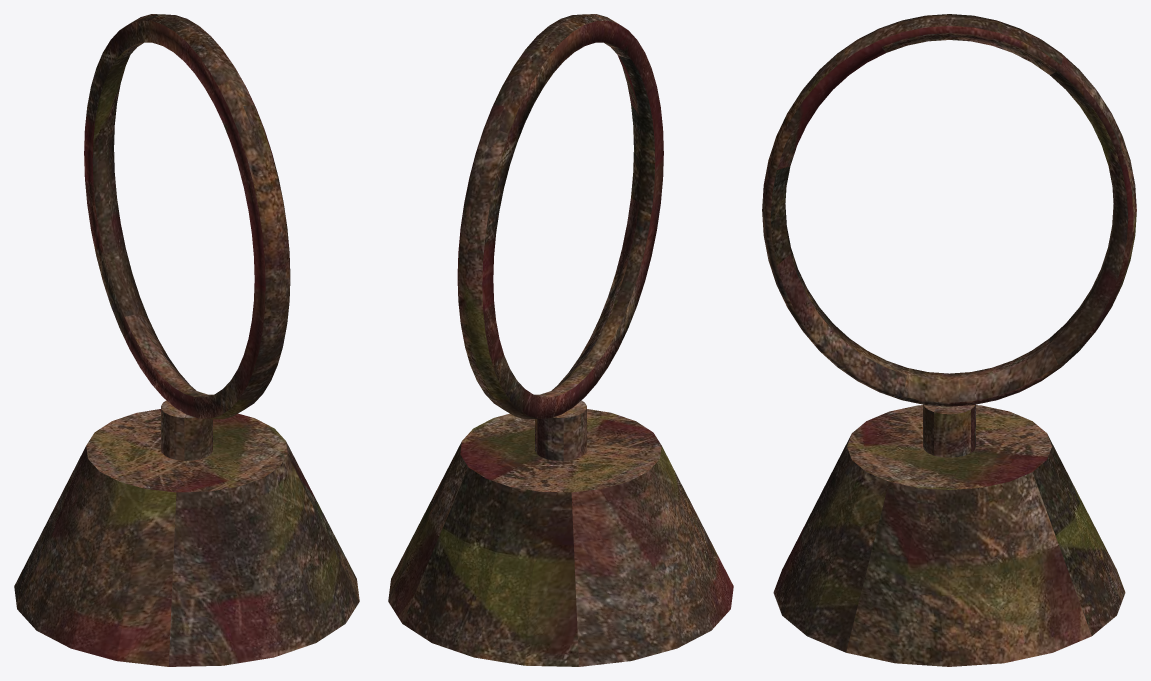
The model's file is aroCirco.fbx.
The picture shows the model from 3 angles, left to right: view 1: azimuth 30°, elevation 25°; view 2: azimuth 150°, elevation 25°; view 3: azimuth 270°, elevation 25°; orthographic projection.
Parts seen in each view (by area): view 1: Cylinder; view 2: Cylinder; view 3: Cylinder.
Boxes of the visible parts, x1=… form: Cylinder: x1=14, y1=14, x2=359, y2=666; Cylinder: x1=388, y1=14, x2=733, y2=666; Cylinder: x1=762, y1=14, x2=1136, y2=666.
Bounding box in the file's own units: 168 × 303 × 178.
1 material, 1 textured.
